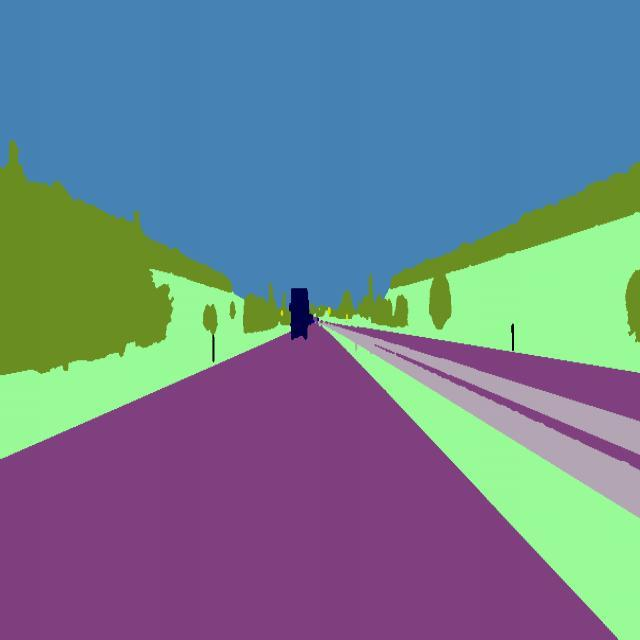safe: (288, 282, 310, 350)
